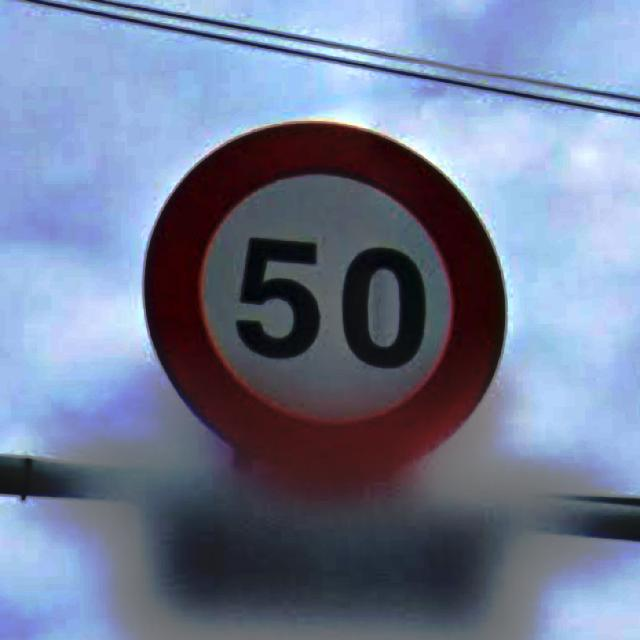max50: (140, 117, 508, 481)
